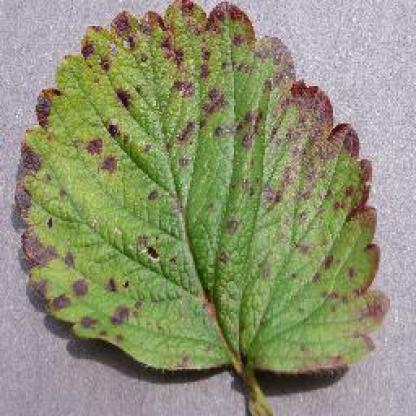leaf scorch: (14, 0, 394, 415)
